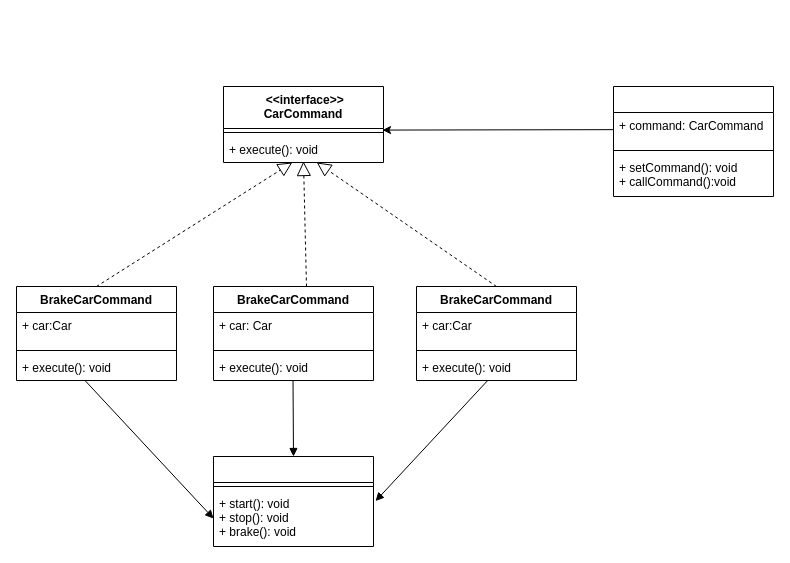
Image size: 790x563. Some labels were removed from this diagram. Here are the shapes that lost their labels. From the top down, the box of each, then its label:
(612, 86, 774, 196): CommandInvoker
(212, 456, 374, 546): Car
